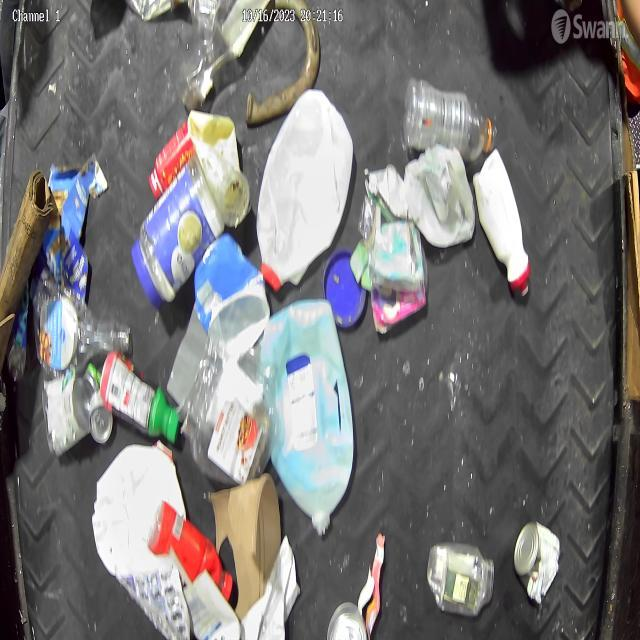can: (514, 522, 562, 606), (88, 392, 114, 446)
milk_jug: (256, 87, 354, 292), (91, 440, 188, 574)
non_white_jug: (262, 298, 356, 536)
plastic_bottle: (32, 279, 132, 374), (403, 78, 498, 162)
